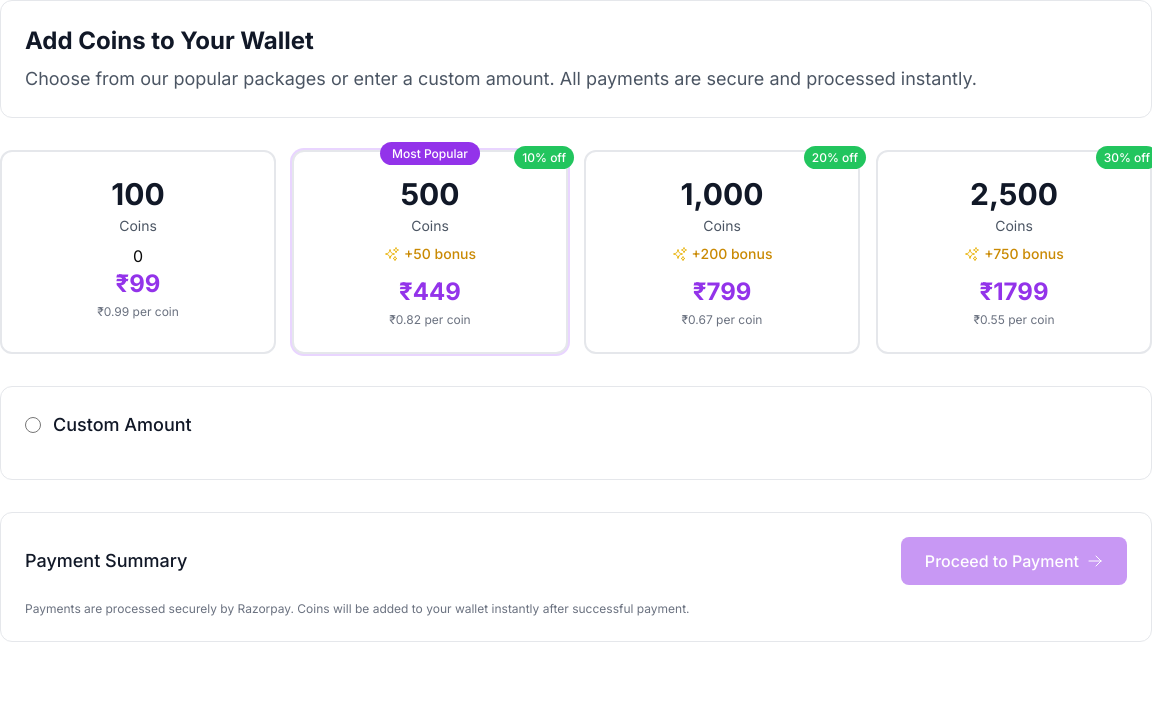
TopUpInterface › enables proceed button when option is selected
Click the text "100".
click(138, 194)  # box x1=111 y1=176 x2=165 y2=212
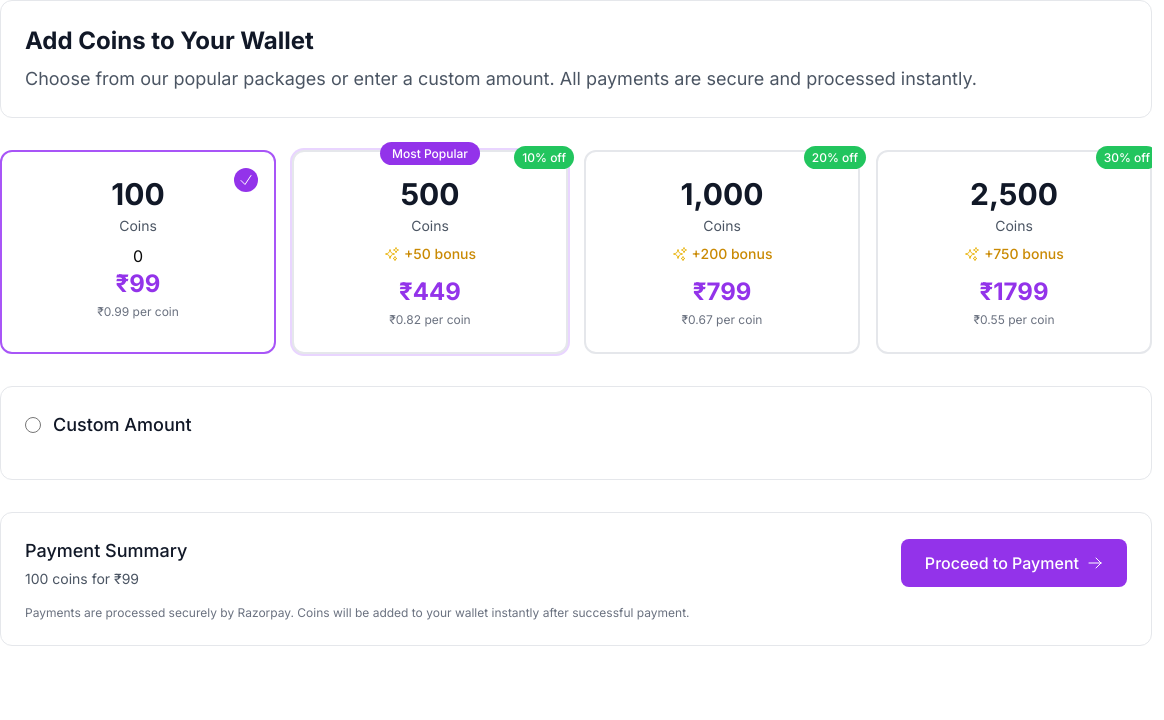
Now the button "Proceed to Payment" is enabled, box x1=901 y1=539 x2=1127 y2=587
